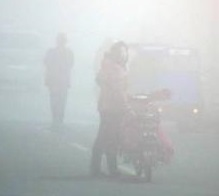person: (88, 39, 129, 178), (43, 31, 76, 127)
